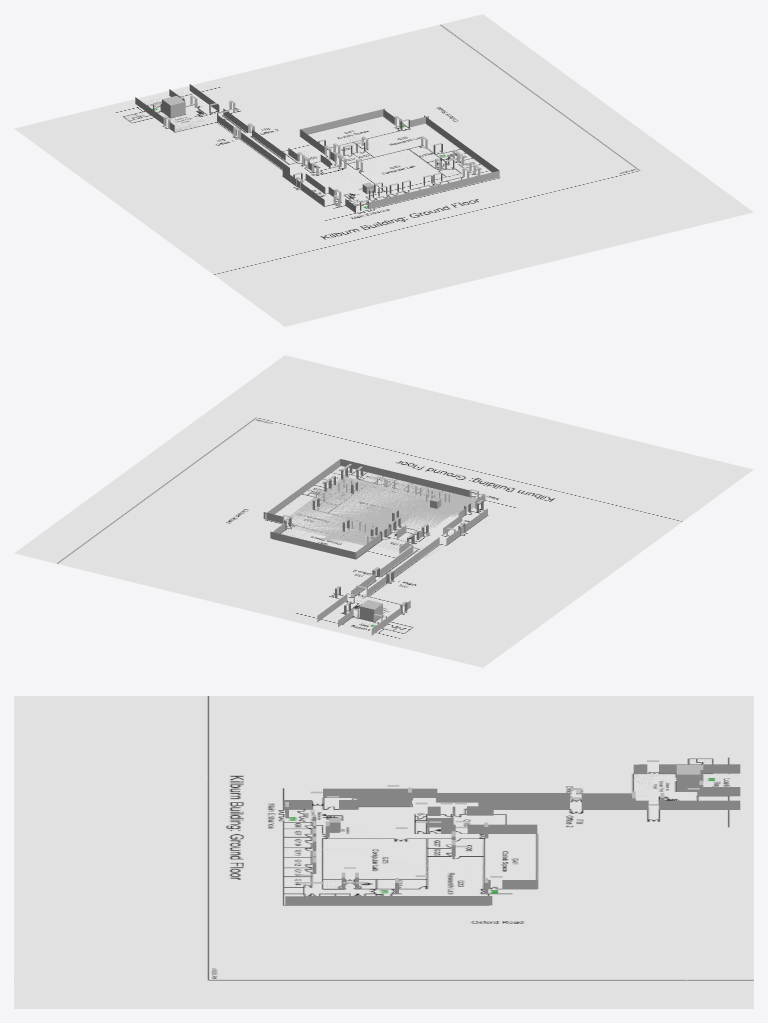
Rendered from GFloor.obj.
The picture shows the model from 3 angles, top to bottom: view 1: azimuth 30°, elevation 25°; view 2: azimuth 150°, elevation 25°; view 3: azimuth 270°, elevation 25°; orthographic projection. The views are drawn at different scales.
Parts seen in each view (by area): view 1: ground_aligned, Cube.017, Cube.001, Plane.002, Cube.004, Cube.002; view 2: ground_aligned, Plane.002, Cube.017, Cube.001, Cube.004, Cube.002; view 3: ground_aligned, Cube.002, Cube.017, Cube.016, Cube.024, Cube.015, Cube.020, Cube.018, Cube.007, Cube.045, Cube.021, Cube.025.
Part boxes in pixels (x1,y1,x2,y2): ground_aligned: [14, 14, 753, 326]; Cube.017: [153, 95, 480, 210]; Cube.001: [368, 170, 499, 209]; Plane.002: [125, 93, 473, 208]; Cube.004: [299, 108, 385, 135]; Cube.002: [424, 115, 498, 172]; ground_aligned: [14, 355, 753, 667]; Plane.002: [278, 466, 477, 632]; Cube.017: [283, 464, 483, 622]; Cube.001: [340, 459, 471, 497]; Cube.004: [270, 531, 356, 558]; Cube.002: [265, 459, 340, 520]; ground_aligned: [14, 696, 753, 1008]; Cube.002: [285, 896, 492, 905]; Cube.017: [285, 760, 703, 894]; Cube.016: [436, 793, 570, 802]; Cube.024: [323, 788, 437, 797]; Cube.015: [478, 800, 569, 809]; Cube.020: [659, 800, 740, 809]; Cube.018: [581, 800, 648, 809]; Cube.007: [467, 824, 537, 833]; Cube.045: [676, 765, 700, 791]; Cube.021: [659, 764, 740, 773]; Cube.025: [357, 797, 410, 806].
Bounding box in the file's own units: 200 × 6.62 × 200.
